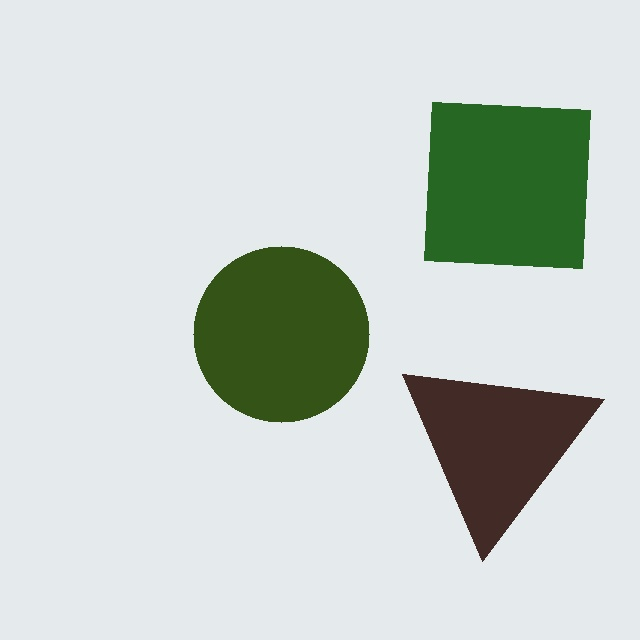circle: (193, 246, 370, 422)
square: (424, 101, 591, 268)
triangle: (401, 374, 604, 562)
